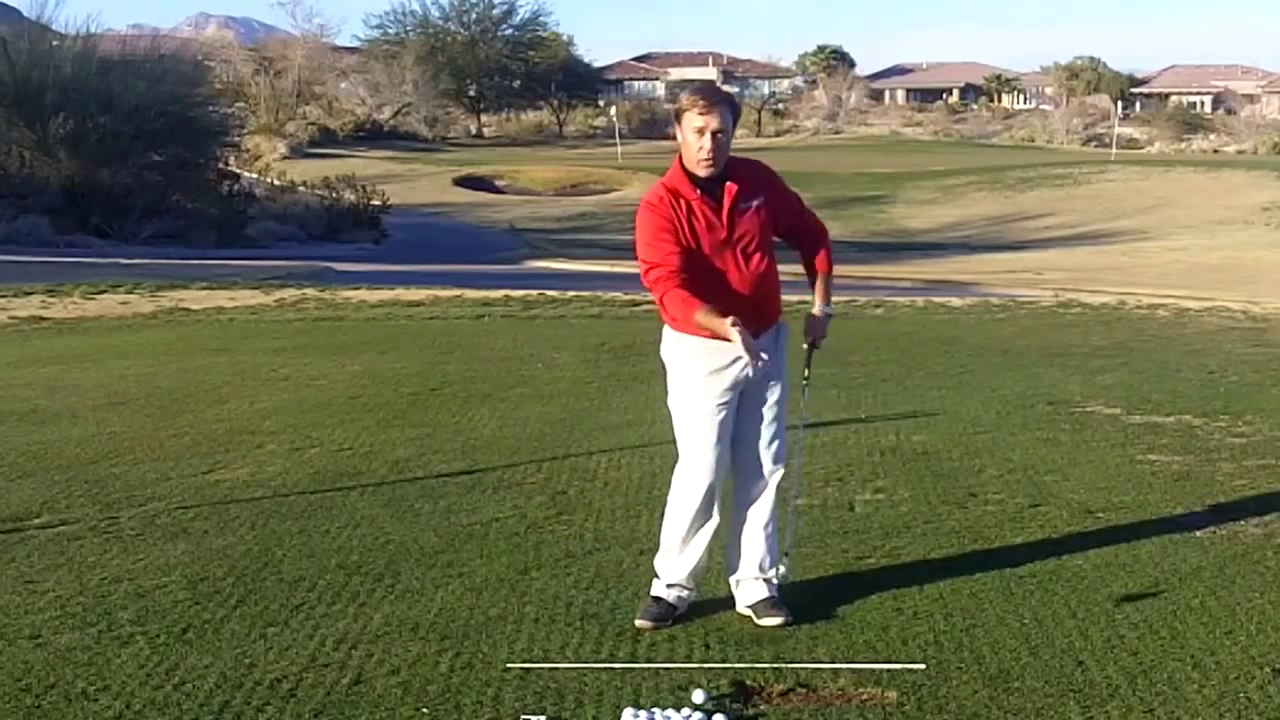person: (634, 82, 833, 629)
